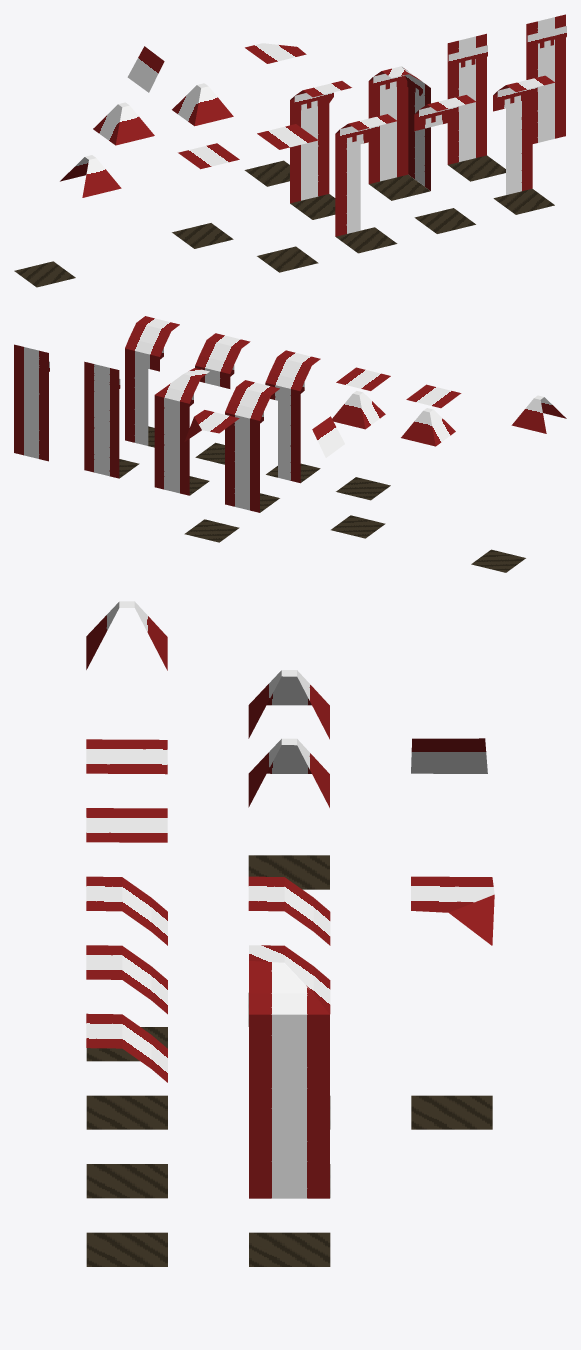
The model's file is SafeSideTileset.glb.
3 renders of one model, top to bottom at view 1: azimuth 30°, elevation 25°; view 2: azimuth 150°, elevation 25°; view 3: azimuth 270°, elevation 25°, orthographic. The views are drawn at different scales.
Visible parts, largest first — view 1: Corner_Piece-col, Wall-Flat-col, Wall-col, Doorway_Right-col, Wall-FlatLoose-col, Doorway_Left-col, Pyramid_Floor-col, Doorway_Middle-col, Floor_Roof-col, CornerFillin-col, Pyramid_RoofLoose-col, Hollow_Pyramid_Roof-col. (+3 smaller); view 2: Wall-col, Corner_Piece-col, Wall-Flat-col, Doorway_Left-col, Doorway_Right-col, Wall-FlatLoose-col, Doorway_Middle-col, Pyramid_Floor-col, CornerFillin-col, Floor_Roof-col, Pyramid_RoofLoose-col, Hollow_Pyramid_Roof-col. (+3 smaller); view 3: Corner_Piece-col, CornerFillin-col, Doorway_Middle-col, Doorway_Left-col, Doorway_Right-col, Floor_Roof-col, Wall-col, Wall-Flat-col, Loose_FlatRoof-col, Roof_Slant-col, Pyramid_Floor-col, Pyramid_RoofLoose-col (+2 smaller).
Part boxes in pixels (bbox=[...]): Corner_Piece-col: bbox=[368, 66, 430, 200]; Wall-Flat-col: bbox=[447, 33, 505, 181]; Wall-col: bbox=[290, 81, 351, 219]; Doorway_Right-col: bbox=[493, 75, 554, 214]; Wall-FlatLoose-col: bbox=[526, 14, 566, 143]; Doorway_Left-col: bbox=[335, 114, 397, 253]; Pyramid_Floor-col: bbox=[172, 83, 233, 248]; Doorway_Middle-col: bbox=[414, 95, 476, 233]; Floor_Roof-col: bbox=[257, 124, 318, 272]; CornerFillin-col: bbox=[244, 43, 306, 186]; Pyramid_RoofLoose-col: bbox=[93, 102, 154, 145]; Hollow_Pyramid_Roof-col.: bbox=[60, 155, 121, 197]; Wall-col: bbox=[225, 380, 279, 512]; Corner_Piece-col: bbox=[154, 368, 209, 495]; Wall-Flat-col: bbox=[84, 361, 139, 478]; Doorway_Left-col: bbox=[265, 350, 320, 483]; Doorway_Right-col: bbox=[125, 316, 179, 447]; Wall-FlatLoose-col: bbox=[14, 344, 49, 461]; Doorway_Middle-col: bbox=[195, 333, 250, 464]; Pyramid_Floor-col: bbox=[331, 391, 385, 538]; CornerFillin-col: bbox=[184, 410, 239, 542]; Floor_Roof-col: bbox=[336, 367, 390, 500]; Pyramid_RoofLoose-col: bbox=[401, 408, 455, 446]; Hollow_Pyramid_Roof-col.: bbox=[511, 395, 566, 433]; Corner_Piece-col: bbox=[249, 945, 330, 1198]; CornerFillin-col: bbox=[411, 876, 494, 1129]; Doorway_Middle-col: bbox=[86, 945, 167, 1198]; Doorway_Left-col: bbox=[86, 876, 167, 1129]; Doorway_Right-col: bbox=[86, 1013, 167, 1266]; Floor_Roof-col: bbox=[86, 808, 167, 1061]; Wall-col: bbox=[248, 876, 330, 1129]; Wall-Flat-col: bbox=[249, 1232, 330, 1266]; Loose_FlatRoof-col: bbox=[86, 739, 167, 774]; Roof_Slant-col: bbox=[411, 738, 487, 773]; Pyramid_Floor-col: bbox=[248, 738, 329, 1026]; Pyramid_RoofLoose-col: bbox=[248, 670, 329, 739].
Bounding box in the file's own units: 14 × 3.65 × 5.03.
1 material, 1 textured.
